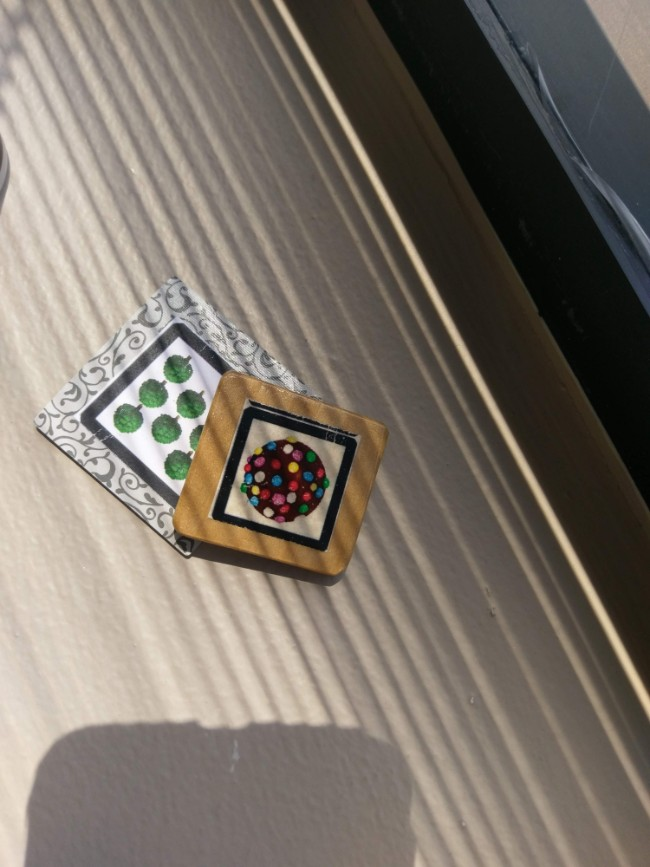cookie: (203, 393, 361, 566)
